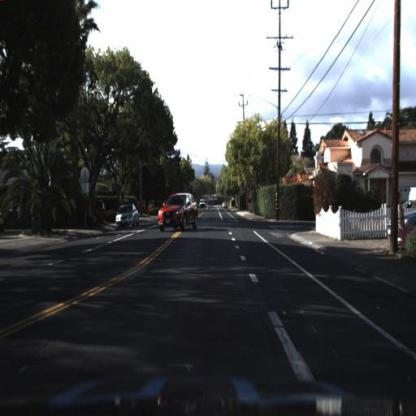car: (155, 191, 200, 235), (114, 201, 141, 233)
